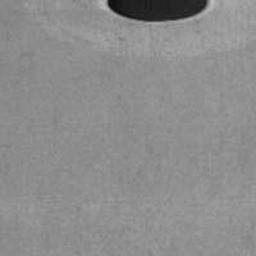Punching: (108, 0, 209, 22)
